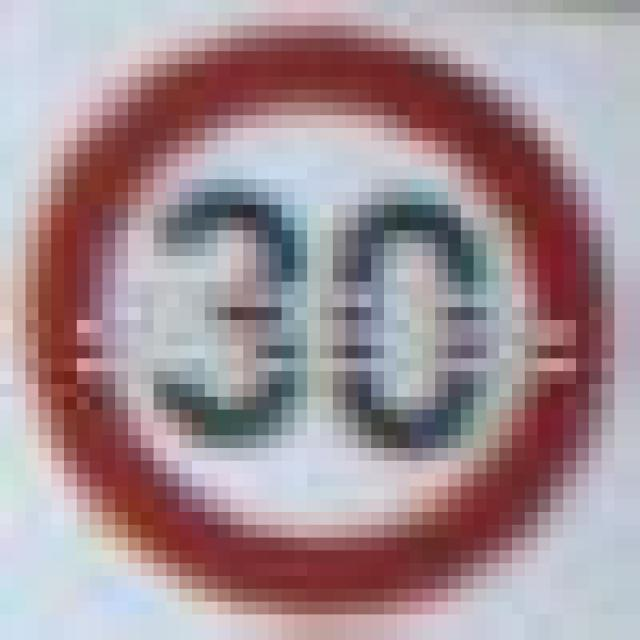SPEED_LIMIT_30: (12, 0, 601, 614)
